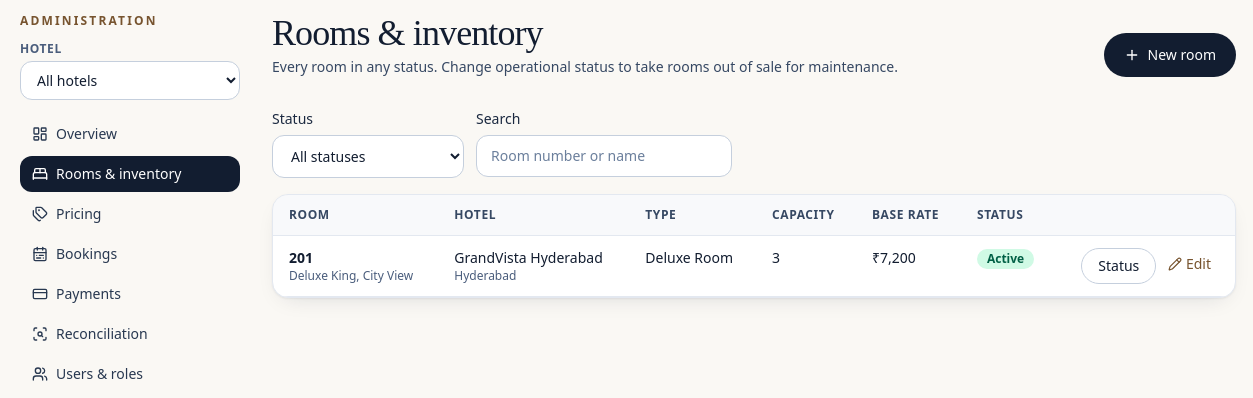
Test case: admin property filter › scopes the rooms list to the chosen hotel and remembers the choice
expect the text "201" is shown: met, box [289, 248, 313, 267]
Select "GrandVista Goa · Goa" in the dropdown labelled "Hotel": (130,80) [20, 61, 240, 100]
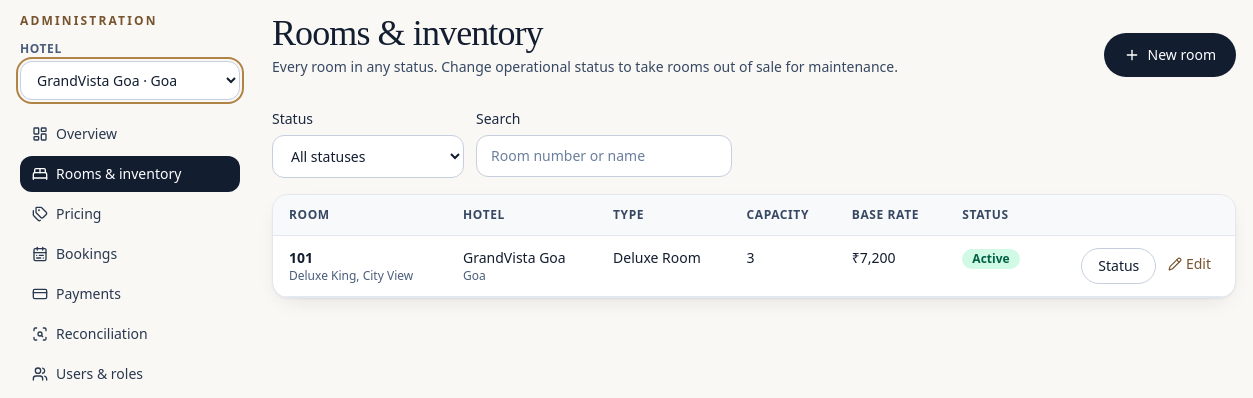
expect the text "101" is shown: met, box [289, 248, 313, 267]
expect the text "201" is gone: met
